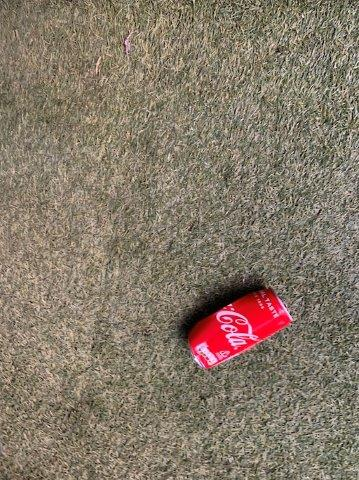kaleng: (189, 291, 292, 369)
